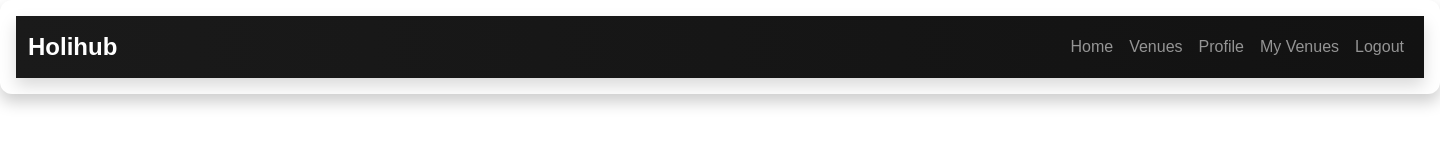
Test case: Logout Functionality › logs out successfully when clicking the logout button
Click the button "Logout".
click(1380, 47)  # box [1347, 27, 1412, 67]
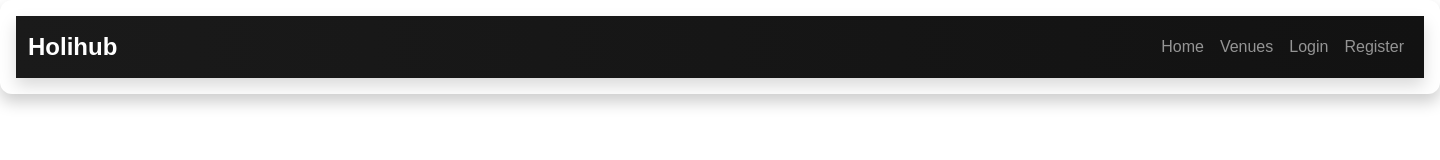
Result: the link "Login" is shown at [1289, 38, 1328, 55]
